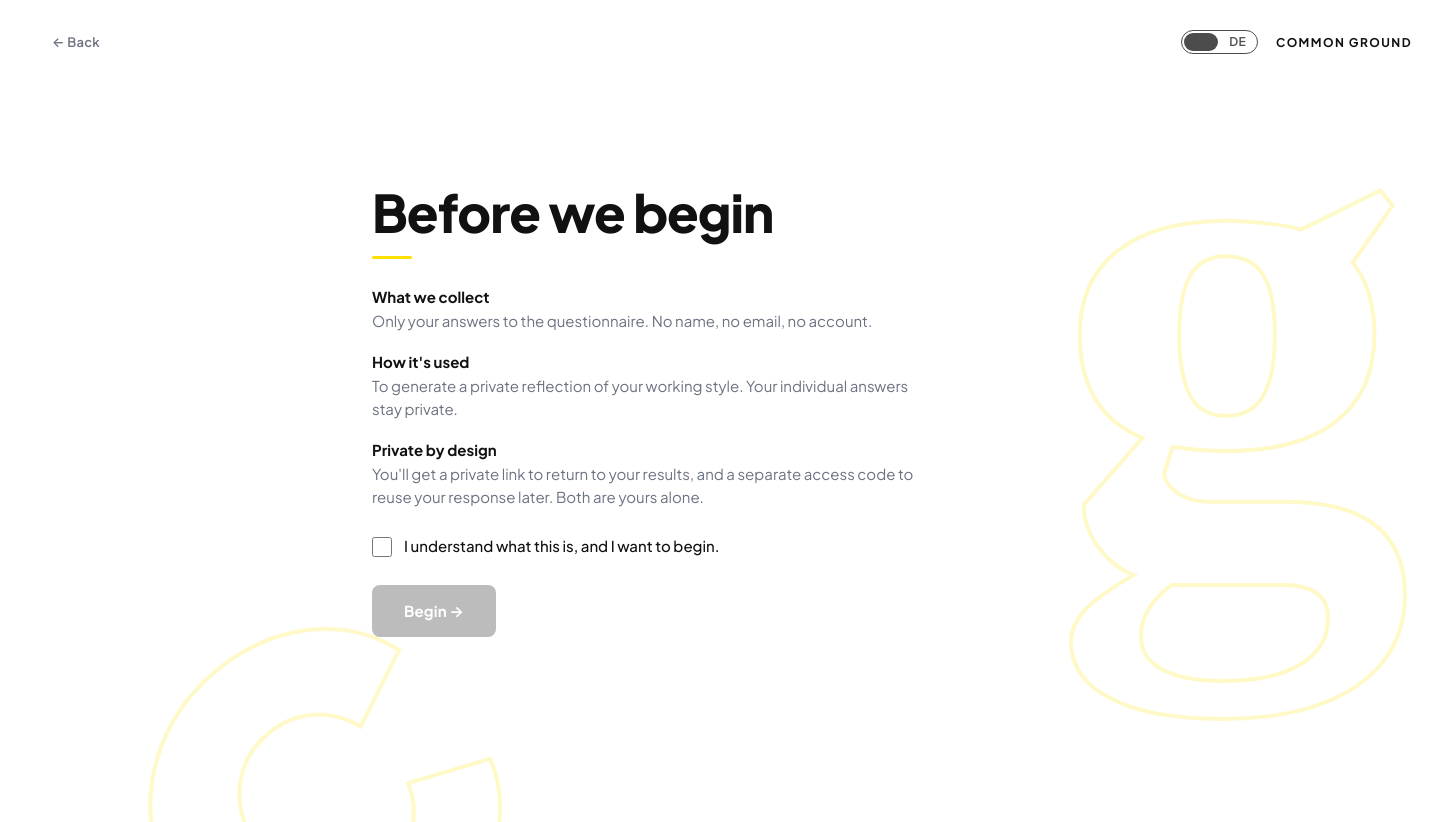
ConsentStep › enables "Begin" once the consent checkbox is checked
The image size is (1452, 822).
Step 1. Click the checkbox → [382, 547], box x1=372 y1=537 x2=392 y2=557
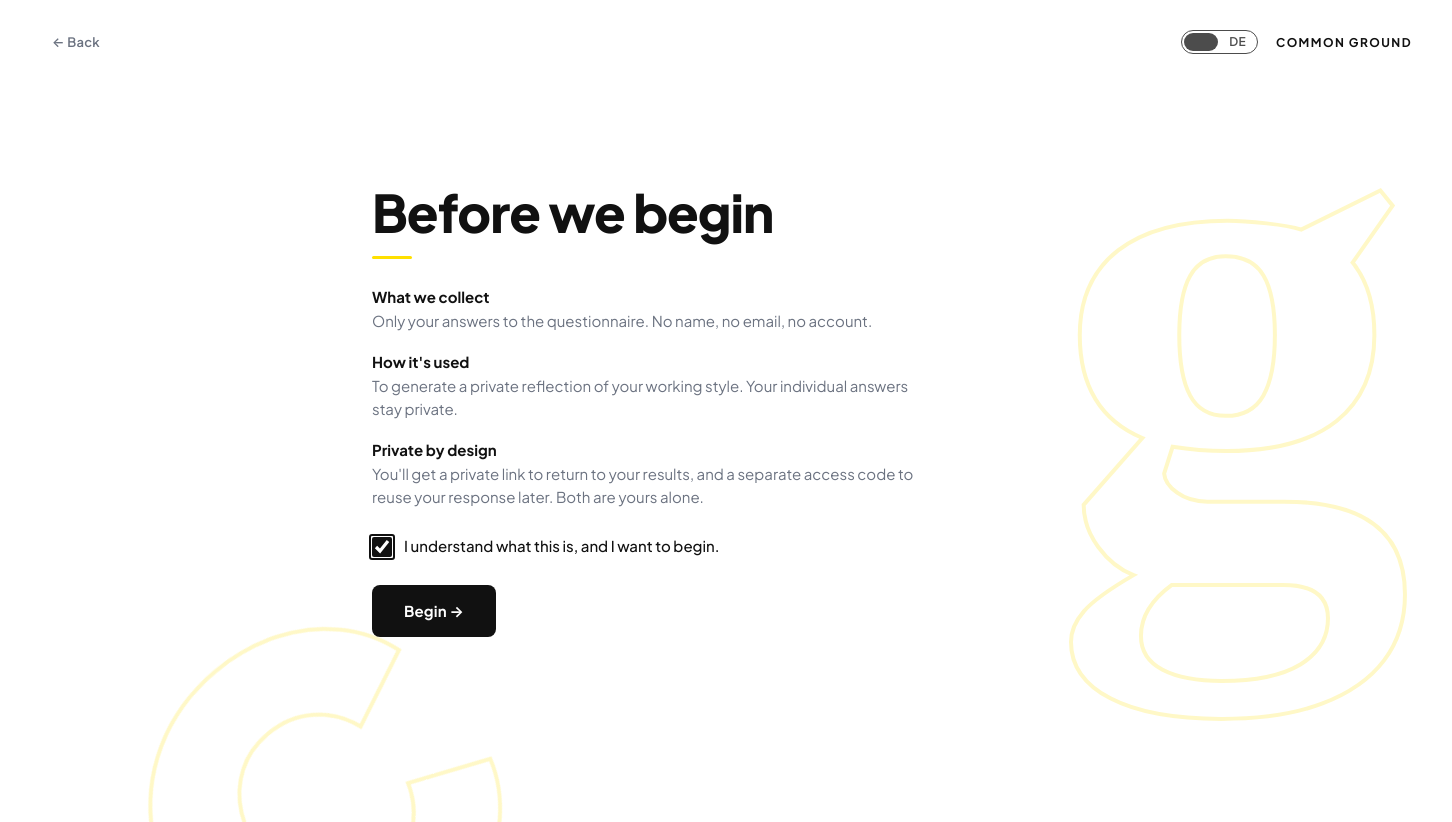
Check: the button "Begin →" is enabled, box x1=372 y1=585 x2=496 y2=637
